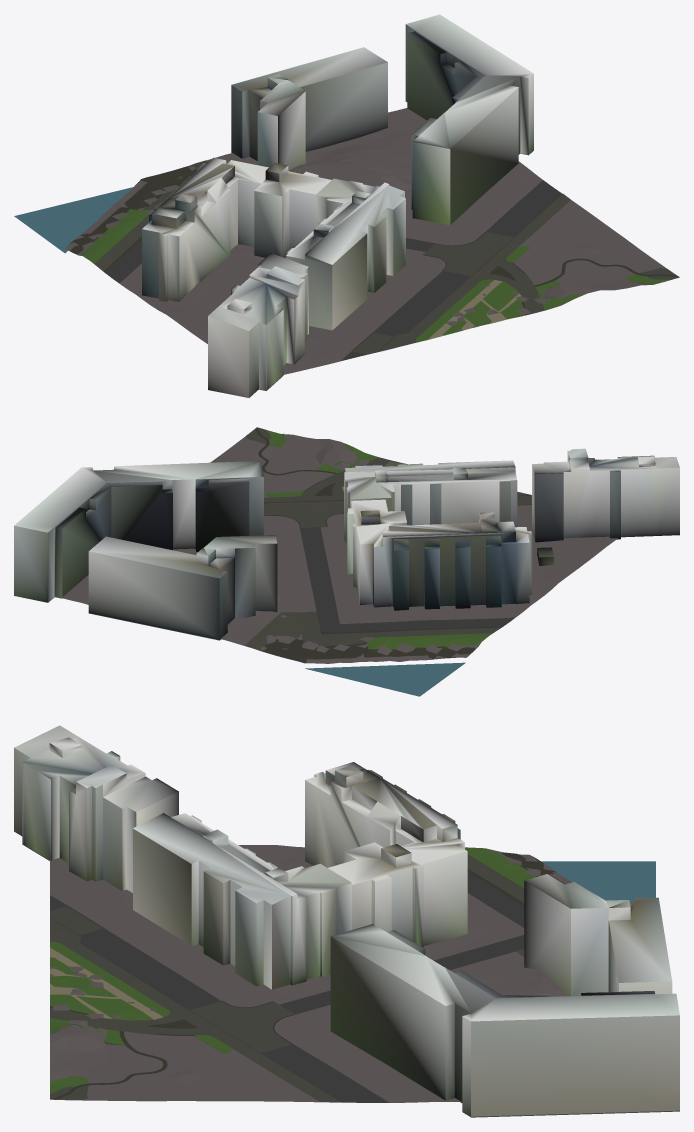
3 views of the same model, one above another, from view 1: azimuth 30°, elevation 25°; view 2: azimuth 150°, elevation 25°; view 3: azimuth 270°, elevation 25° (orthographic). The views are drawn at different scales.
Visible parts, largest first — view 1: c_m17_p07; view 2: c_m17_p07; view 3: c_m17_p07.
Boxes of the visible parts, <box> form: c_m17_p07: <box>14,14,679,397</box>; c_m17_p07: <box>14,427,679,696</box>; c_m17_p07: <box>14,725,679,1117</box>.
Bounding box in the file's own units: 149 × 27.86 × 141.
